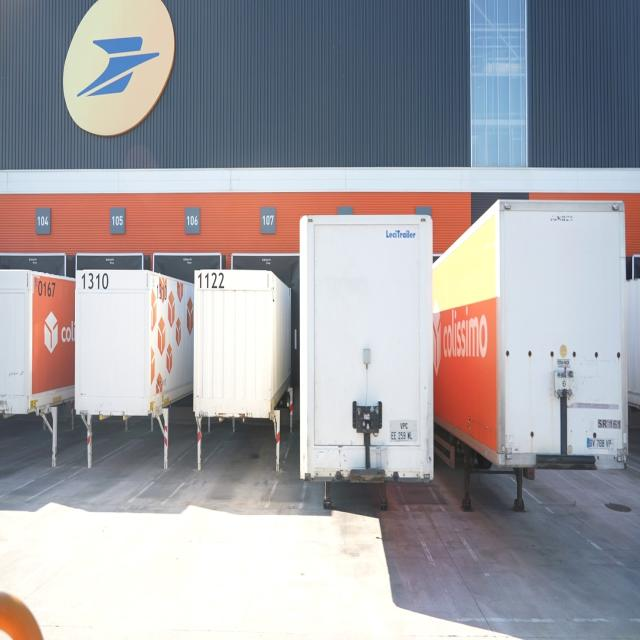Code: (79, 269, 112, 296), (34, 271, 61, 303), (194, 269, 227, 293)
